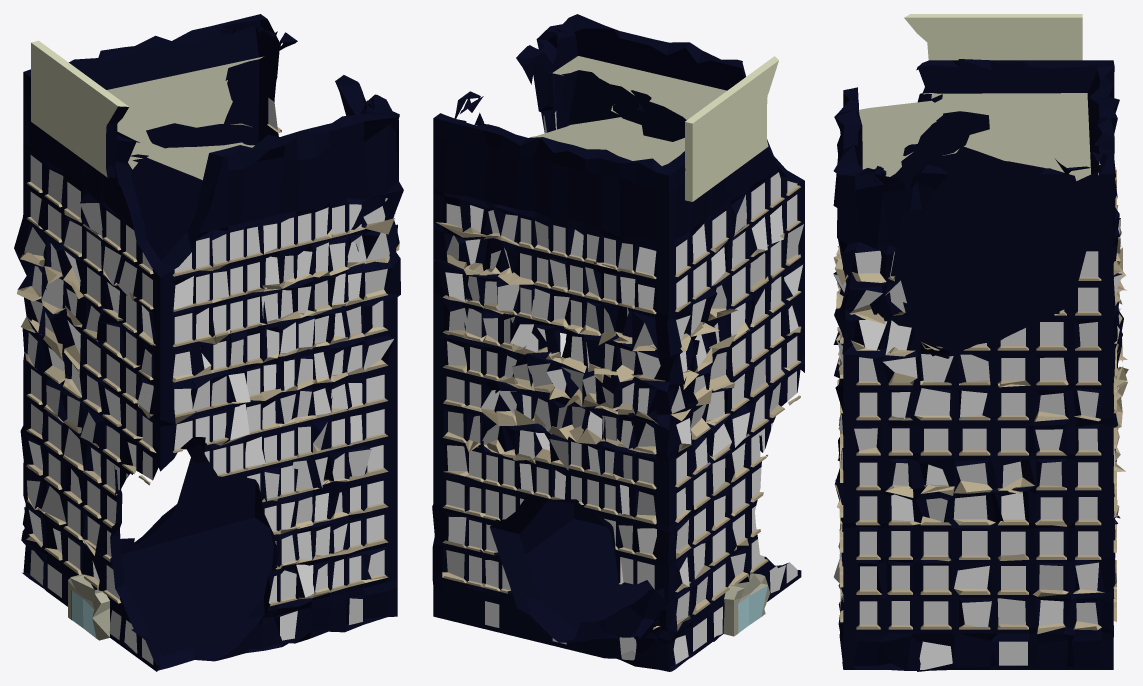
File: BrokenBuilding.fbx
3 renders of one model, left to right at view 1: azimuth 30°, elevation 25°; view 2: azimuth 150°, elevation 25°; view 3: azimuth 270°, elevation 25°, orthographic.
Parts seen in each view (by area): view 1: Building; view 2: Building; view 3: Building.
Boxes of the visible parts, x1,y1,x2,y2 form: Building: (14, 14, 403, 671); Building: (432, 14, 804, 671); Building: (833, 14, 1128, 671).
Size of the model in its own units: 224 by 441 by 219.
